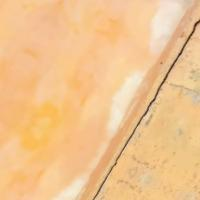crack: (94, 20, 199, 199)
